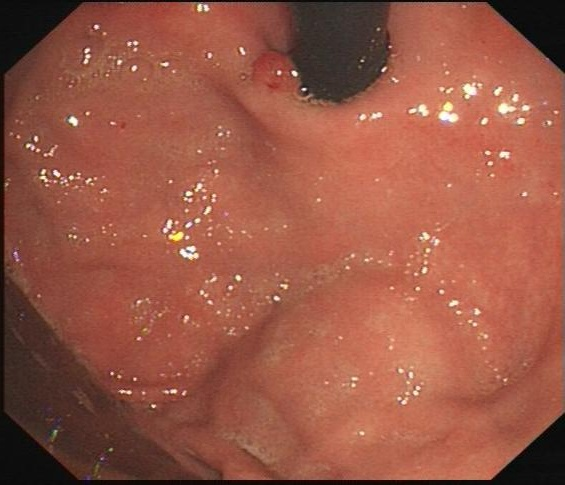Polyp: (238, 37, 313, 117)
